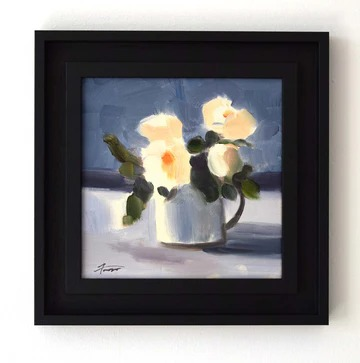painting: (82, 78, 283, 279)
